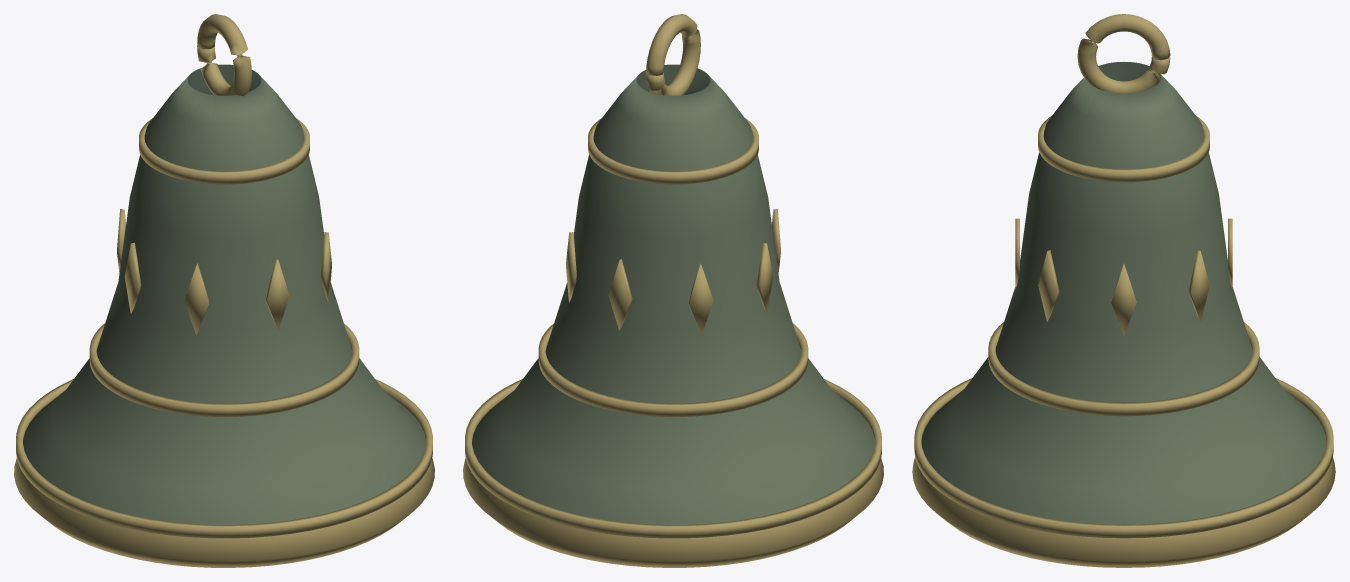
The model's file is SM_RB_Bell.fbx.
3 renders of one model, left to right at view 1: azimuth 30°, elevation 25°; view 2: azimuth 150°, elevation 25°; view 3: azimuth 270°, elevation 25°, orthographic.
Visible parts, largest first — view 1: SM_RB_Bell; view 2: SM_RB_Bell; view 3: SM_RB_Bell.
Part boxes in pixels (<box>): SM_RB_Bell: <box>14,14,434,567</box>; SM_RB_Bell: <box>463,14,883,567</box>; SM_RB_Bell: <box>912,14,1335,567</box>.
Bounding box in the file's own units: 1.82 × 1.82 × 2.34.
